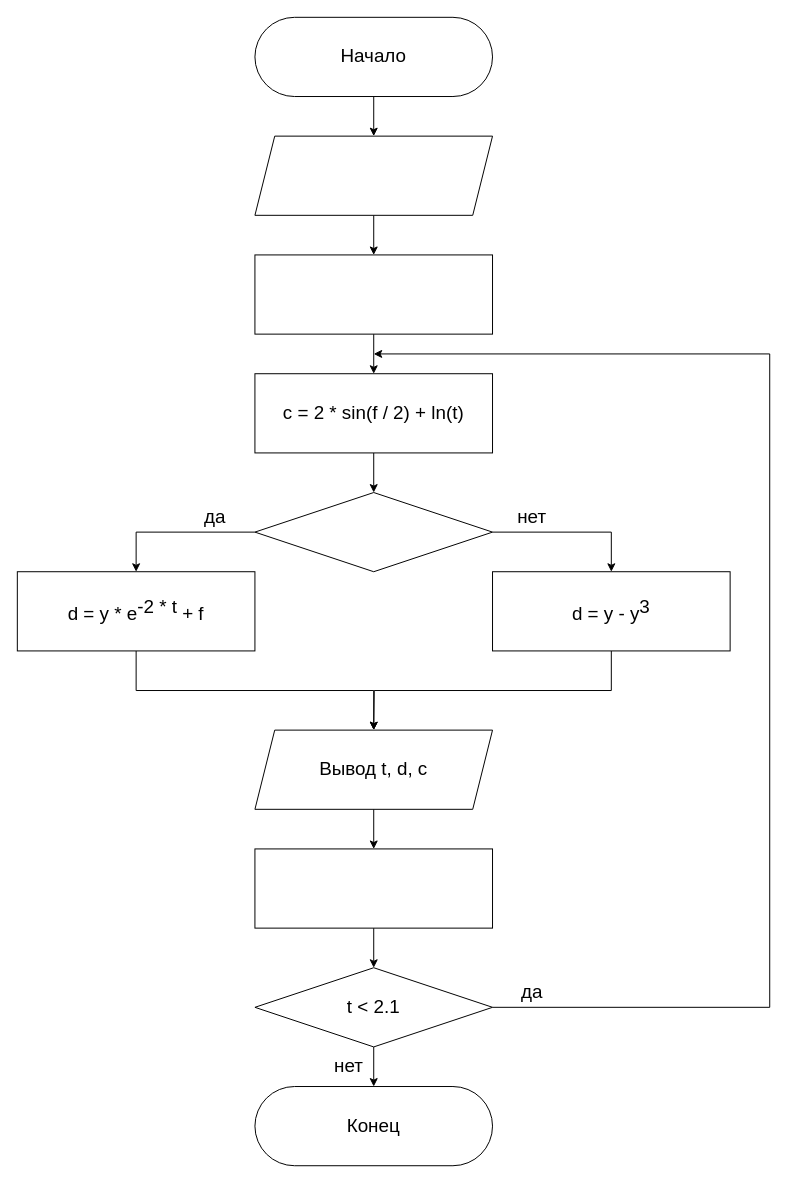
This 795x1183 diagram has some shape labels left out. The shapes that lost their labels are listed below. From the top down, each one's centre as x and y in pixels, then its label:
(373,175): Ввод f, y, t, d, c
(373,294): f = -125*10 - 6 , y = 1.7, t = 1
(373,532): c >= 3
(373,888): t = t + 0.1
